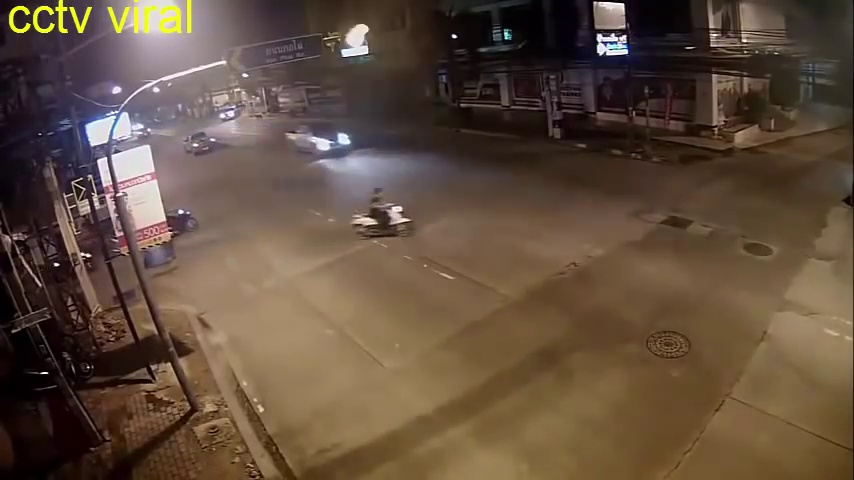car: (285, 121, 352, 161), (183, 130, 216, 154)
motorbike: (352, 185, 412, 241)
